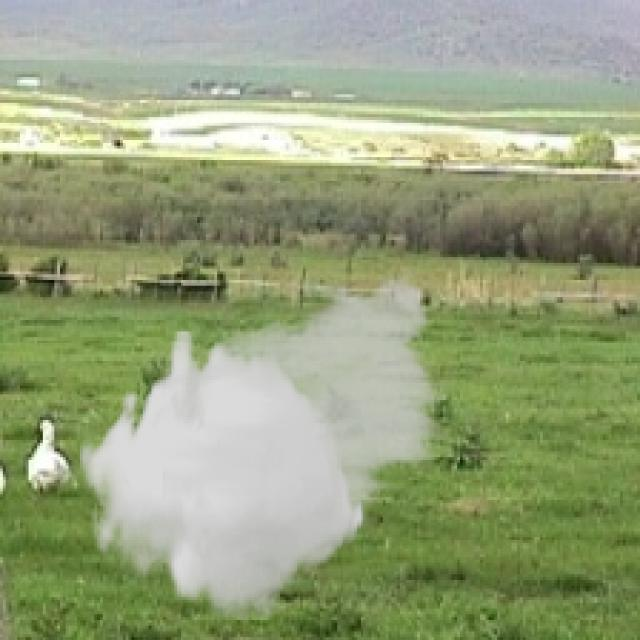smoke: (77, 263, 452, 620)
